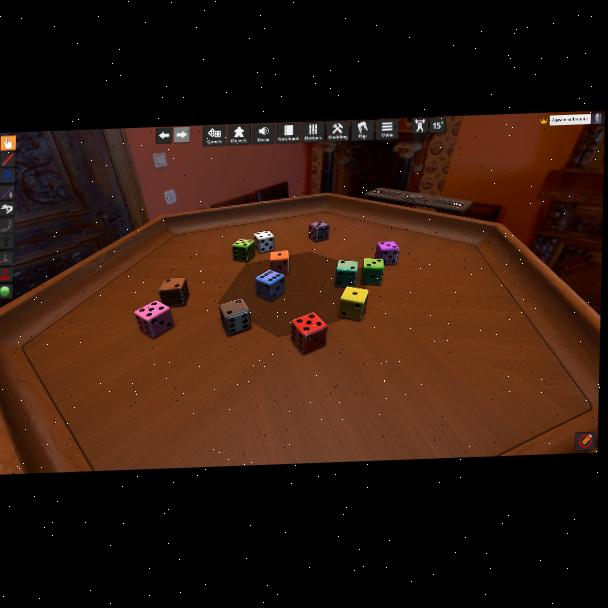d6: (134, 298, 176, 340), (219, 298, 253, 338), (290, 313, 322, 355), (339, 287, 369, 322), (256, 269, 285, 303), (158, 277, 189, 308), (359, 258, 384, 286), (335, 260, 358, 288), (374, 241, 398, 266), (231, 238, 255, 263), (253, 230, 274, 254), (270, 250, 290, 275), (309, 221, 328, 243)
